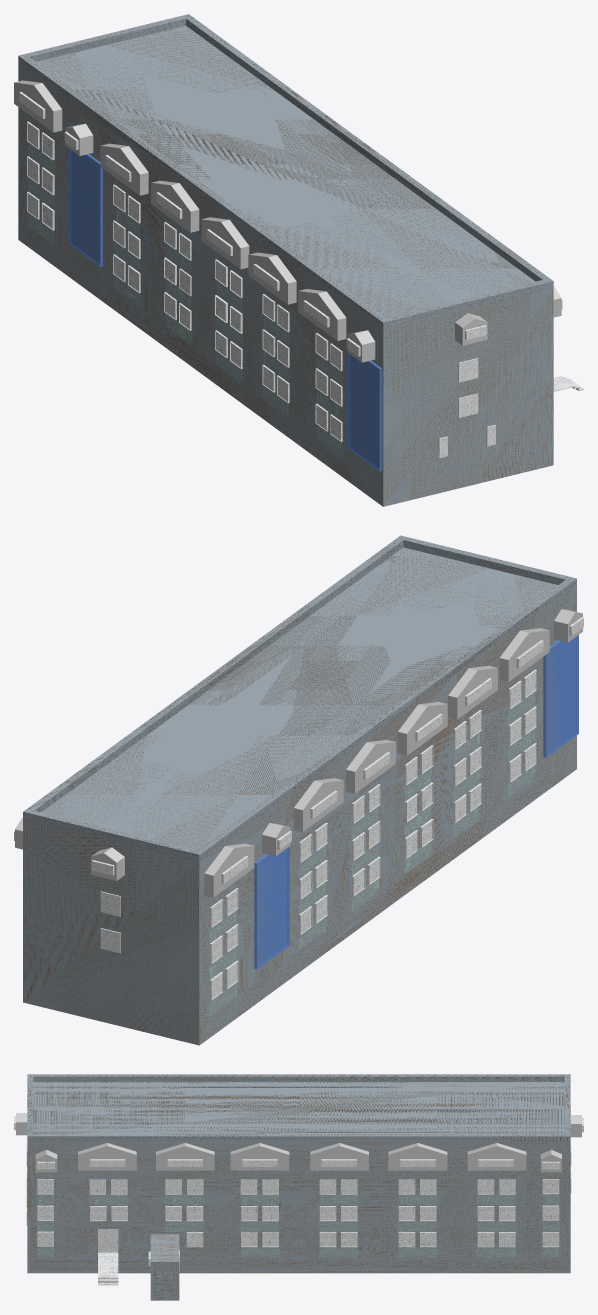
The model's file is Waldo(Textures).fbx.
The picture shows the model from 3 angles, top to bottom: view 1: azimuth 30°, elevation 25°; view 2: azimuth 150°, elevation 25°; view 3: azimuth 270°, elevation 25°; orthographic projection. The views are drawn at different scales.
Visible parts, largest first — view 1: Model, Component_1_1, Component_10_1, Component_9_1, Component_3_1, Component_4_1, Component_4_2, Component_12_1, Component_11_1, Component_2_1, Component_2_2; view 2: Model, Component_1_1, Component_10_1, Component_9_1, Component_3_1, Component_4_2, Component_4_1, Component_12_1, Component_11_1, Component_2_1, Component_2_2; view 3: Model, Component_7_1, Component_5_1, Component_6_1, Component_8_1, Component_8_2, Component_8_3, Component_8_4, Component_11_1, Component_8_5, Component_8_6, Component_2_3 (+1 smaller).
Part boxes in pixels (x1,y1,x2,y2): Model: (18, 14, 583, 506); Component_1_1: (14, 80, 346, 340); Component_10_1: (68, 148, 382, 471); Component_9_1: (27, 121, 242, 368); Component_3_1: (19, 92, 360, 356); Component_4_1: (262, 294, 289, 403); Component_4_2: (315, 333, 342, 442); Component_12_1: (458, 358, 478, 417); Component_11_1: (455, 313, 487, 345); Component_2_1: (347, 330, 375, 362); Component_2_2: (65, 123, 93, 155); Model: (14, 535, 576, 1045); Component_1_1: (204, 628, 549, 897); Component_10_1: (254, 635, 578, 969); Component_9_1: (210, 745, 433, 1000); Component_3_1: (221, 617, 583, 883); Component_4_2: (508, 669, 536, 782); Component_4_1: (453, 710, 481, 822); Component_12_1: (100, 891, 120, 953); Component_11_1: (91, 847, 124, 880); Component_2_1: (554, 609, 582, 642); Component_2_2: (262, 823, 290, 856); Model: (14, 1074, 583, 1285); Component_7_1: (90, 1179, 559, 1300); Component_5_1: (78, 1143, 526, 1170); Component_6_1: (37, 1159, 513, 1169); Component_8_1: (477, 1179, 515, 1194); Component_8_2: (398, 1179, 436, 1194); Component_8_3: (319, 1179, 357, 1194); Component_8_4: (240, 1179, 278, 1194); Component_11_1: (16, 1113, 581, 1137); Component_8_5: (165, 1179, 203, 1194); Component_8_6: (89, 1179, 127, 1194); Component_2_3: (35, 1149, 57, 1172).
Size of the model in its own units: 935 by 624 by 2350.
